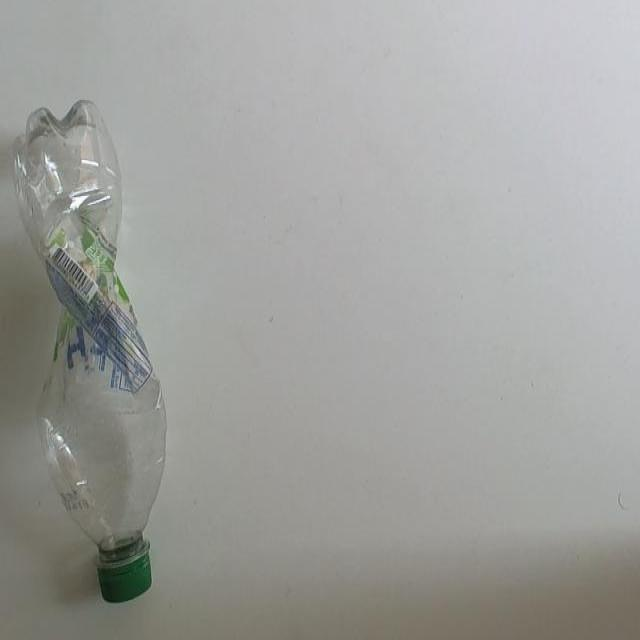defect: (9, 94, 169, 606)
